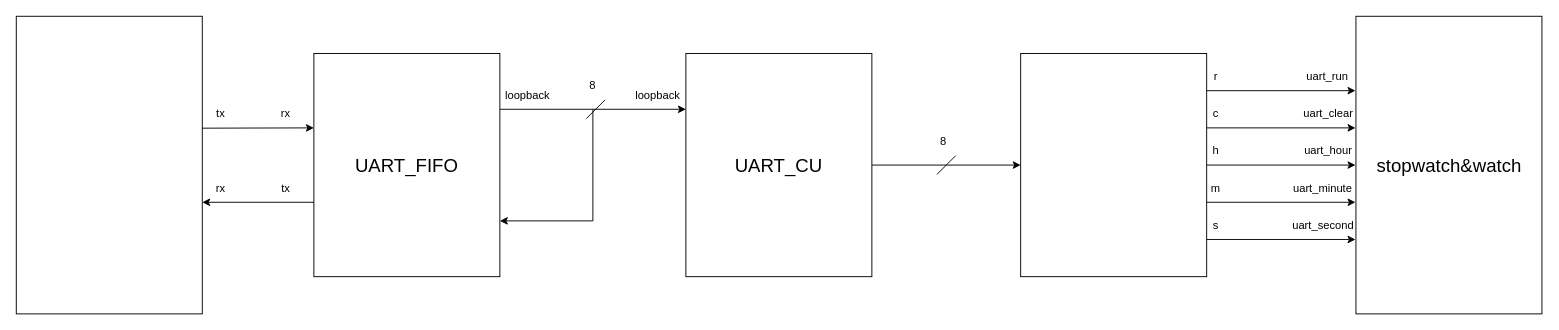
Some shapes in this 1559 by 330 pixel diagram are drawn without their labels. The shapes that lost their labels are listed below. From the top down, each one's centre as x and y in pixels, then its label:
At pixel 108 164: "PC".
At pixel 1113 165: "cmd_decoder".
